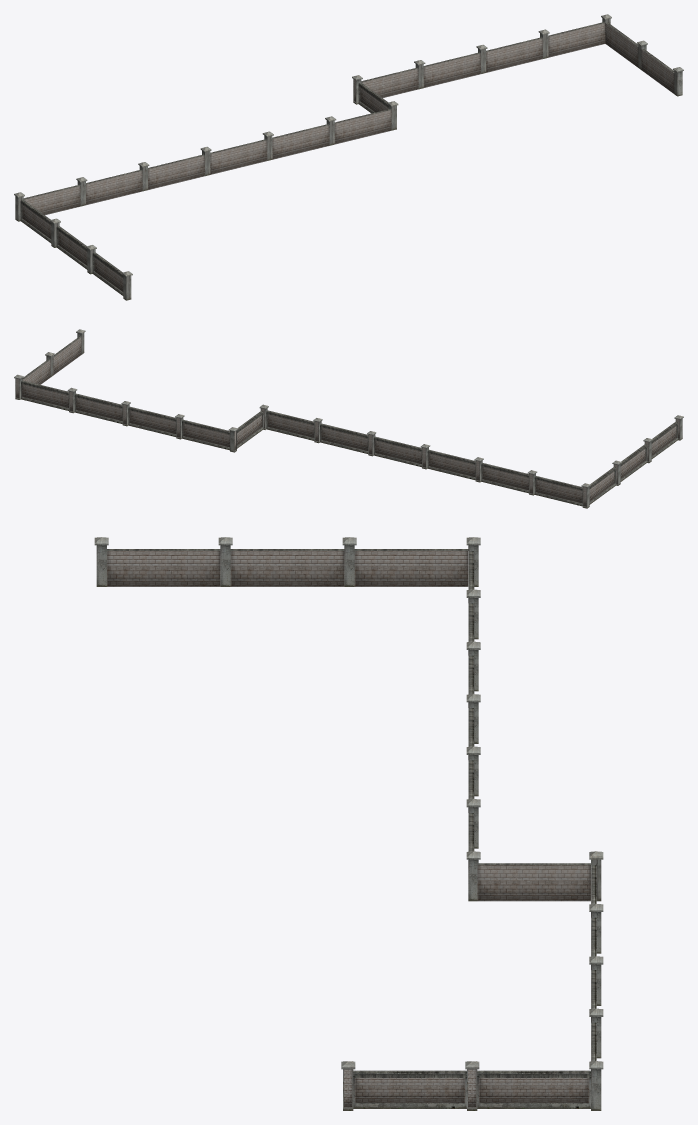
The model's file is BungalowFence.fbx.
The picture shows the model from 3 angles, top to bottom: view 1: azimuth 30°, elevation 25°; view 2: azimuth 150°, elevation 25°; view 3: azimuth 270°, elevation 25°; orthographic projection. The views are drawn at different scales.
Parts seen in each view (by area): view 1: Area1BungalowFence; view 2: Area1BungalowFence; view 3: Area1BungalowFence.
Part boxes in pixels (x1,y1,x2,y2): Area1BungalowFence: (14, 14, 683, 300); Area1BungalowFence: (14, 329, 683, 508); Area1BungalowFence: (94, 537, 603, 1110).
Bounding box in the file's own units: 4520 × 189 × 1834.
